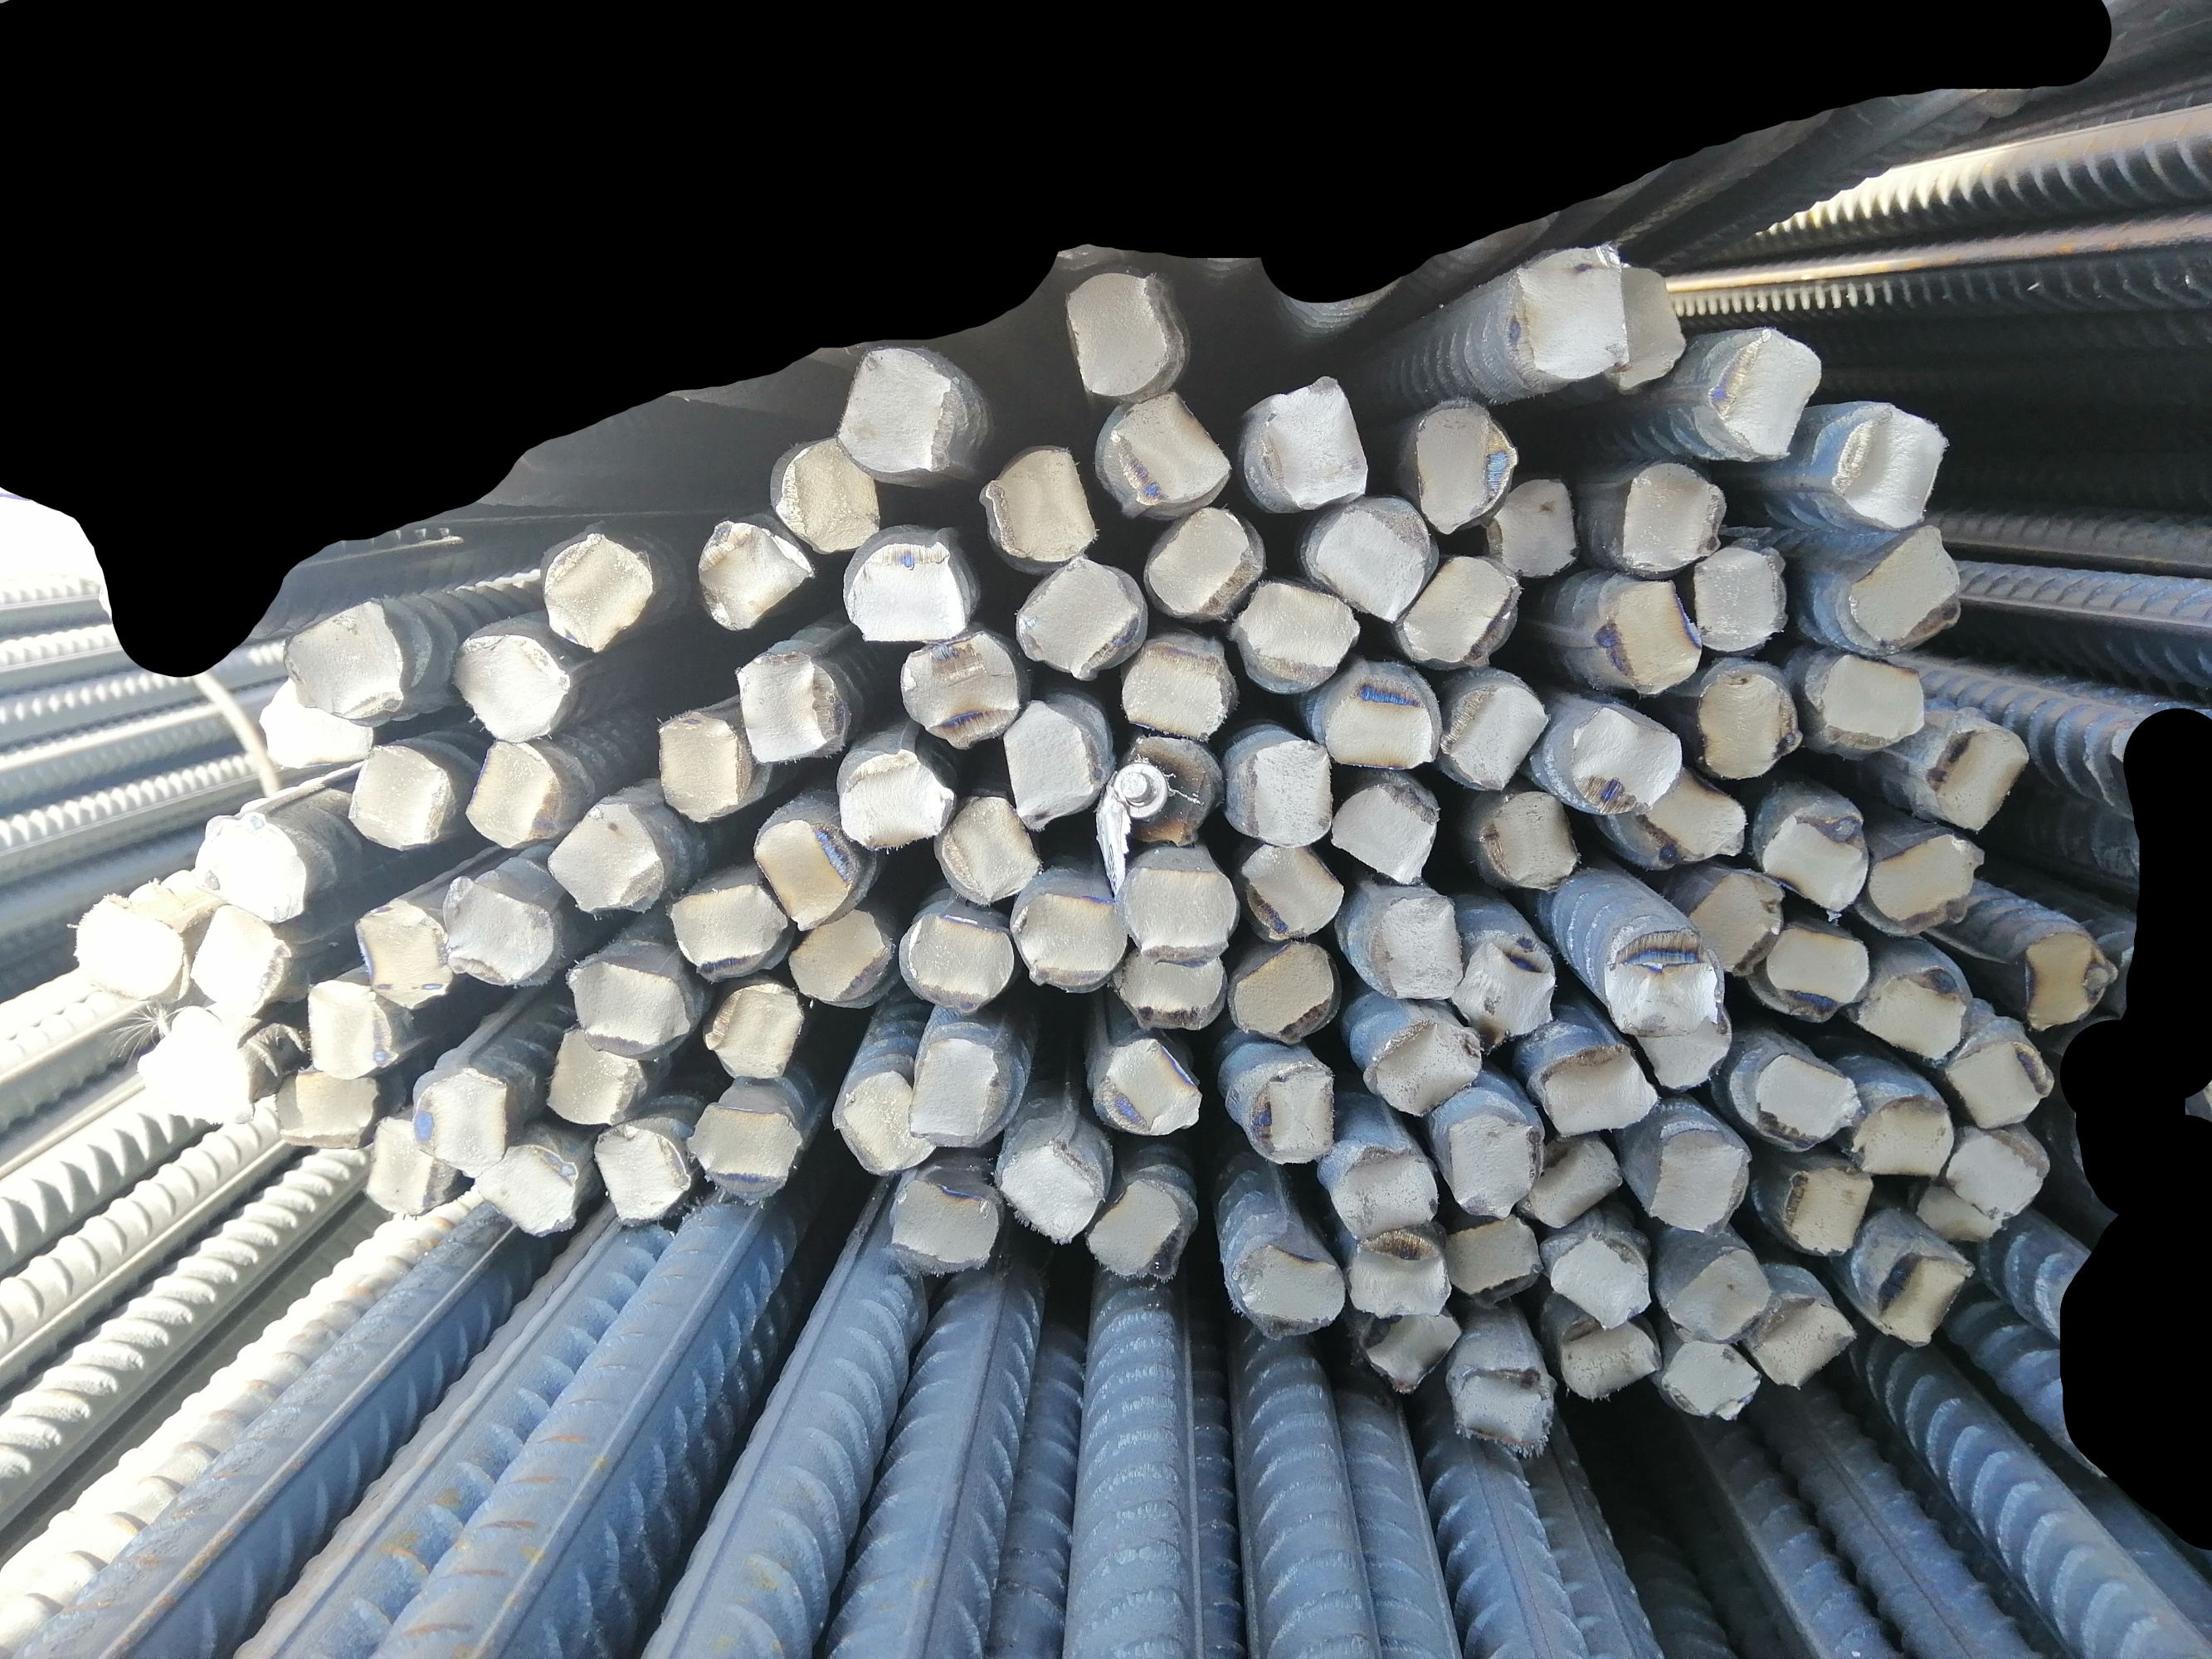rebar: (1511, 235, 1635, 382), (1816, 401, 1952, 533), (1703, 324, 1832, 460), (1062, 265, 1185, 404), (560, 932, 695, 1058), (835, 345, 955, 484), (1016, 552, 1145, 681), (1253, 375, 1374, 512), (1313, 495, 1435, 627), (1231, 572, 1360, 695), (1100, 394, 1234, 512), (980, 437, 1100, 568), (901, 624, 1027, 748), (288, 594, 408, 723), (1611, 763, 1752, 873), (1837, 525, 1963, 647), (751, 812, 872, 938), (539, 526, 655, 655), (547, 795, 668, 918), (844, 532, 969, 650), (1415, 394, 1518, 537), (692, 514, 816, 633), (999, 692, 1105, 829), (450, 624, 572, 742), (927, 788, 1046, 908), (1598, 925, 1727, 1035), (1401, 551, 1518, 671), (1614, 457, 1731, 577), (1564, 701, 1686, 816), (1691, 664, 1806, 786), (1591, 577, 1706, 699), (884, 1173, 1002, 1290), (1759, 795, 1872, 917), (1590, 260, 1693, 394), (1443, 667, 1551, 795), (340, 737, 460, 850), (1435, 1100, 1544, 1223), (1865, 831, 1989, 941), (662, 878, 791, 983), (1321, 657, 1440, 770), (770, 439, 885, 554), (1123, 849, 1238, 964), (990, 1127, 1100, 1248), (833, 744, 955, 852), (1143, 509, 1267, 615), (1853, 958, 1977, 1065), (251, 671, 377, 775), (443, 871, 556, 986), (1361, 1014, 1487, 1117), (195, 805, 307, 920), (1229, 734, 1339, 850), (1449, 931, 1558, 1047), (739, 648, 847, 767), (682, 1100, 804, 1204), (899, 908, 1014, 1018), (1110, 732, 1220, 847), (1330, 772, 1445, 882), (347, 889, 453, 1007), (1764, 917, 1876, 1028), (404, 1063, 511, 1180), (75, 896, 185, 1007), (1750, 1042, 1860, 1154), (1231, 1232, 1344, 1340), (1642, 1127, 1755, 1236), (654, 709, 760, 824), (187, 903, 289, 1021), (134, 1026, 258, 1124), (587, 1117, 697, 1227), (1478, 789, 1588, 899), (1227, 938, 1337, 1047), (2008, 924, 2116, 1035), (1923, 725, 2031, 836), (905, 1035, 1011, 1148), (830, 1065, 936, 1178), (1682, 866, 1788, 979), (1689, 538, 1794, 653), (1365, 889, 1466, 1007), (539, 1021, 647, 1129), (1093, 1037, 1203, 1143), (1870, 1243, 1980, 1349), (1445, 1359, 1557, 1464), (1016, 890, 1130, 993), (1539, 1040, 1663, 1134), (474, 1133, 586, 1236), (1117, 641, 1231, 742), (1815, 648, 1928, 748), (359, 1114, 462, 1222), (465, 741, 565, 852), (786, 903, 891, 1007), (1550, 1227, 1654, 1331), (1086, 1171, 1187, 1279), (1942, 1122, 2055, 1218), (1332, 1141, 1438, 1243), (1945, 1037, 2064, 1127), (706, 978, 805, 1086), (1243, 1058, 1339, 1169), (1241, 838, 1346, 939), (302, 974, 401, 1080), (1748, 1290, 1856, 1387), (1663, 1248, 1773, 1344), (1443, 1211, 1544, 1314), (1520, 1131, 1626, 1229), (1630, 1002, 1740, 1096), (1121, 941, 1232, 1033), (1485, 472, 1578, 584), (1347, 1229, 1455, 1323), (1849, 1084, 1958, 1178), (268, 1060, 382, 1147), (1557, 1316, 1665, 1406), (1780, 1161, 1879, 1258), (1361, 1307, 1464, 1394), (1665, 1333, 1764, 1422), (1912, 1175, 2015, 1251)
